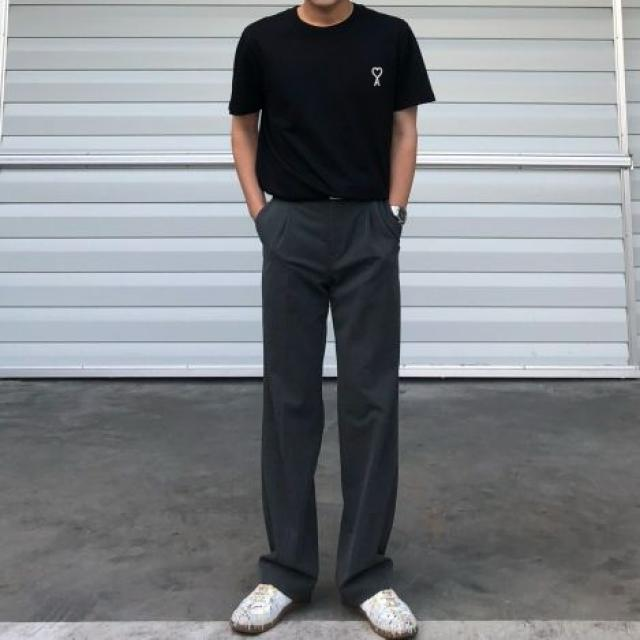shortsleeve: (230, 8, 436, 204)
slacks: (259, 195, 403, 607)
